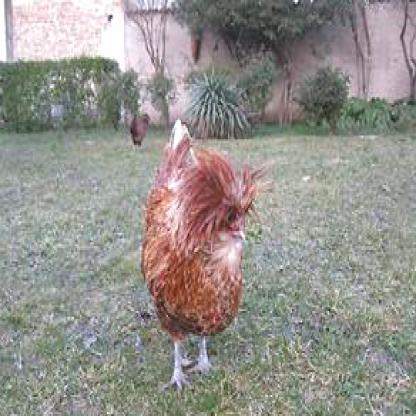chicken: (141, 121, 258, 390)
